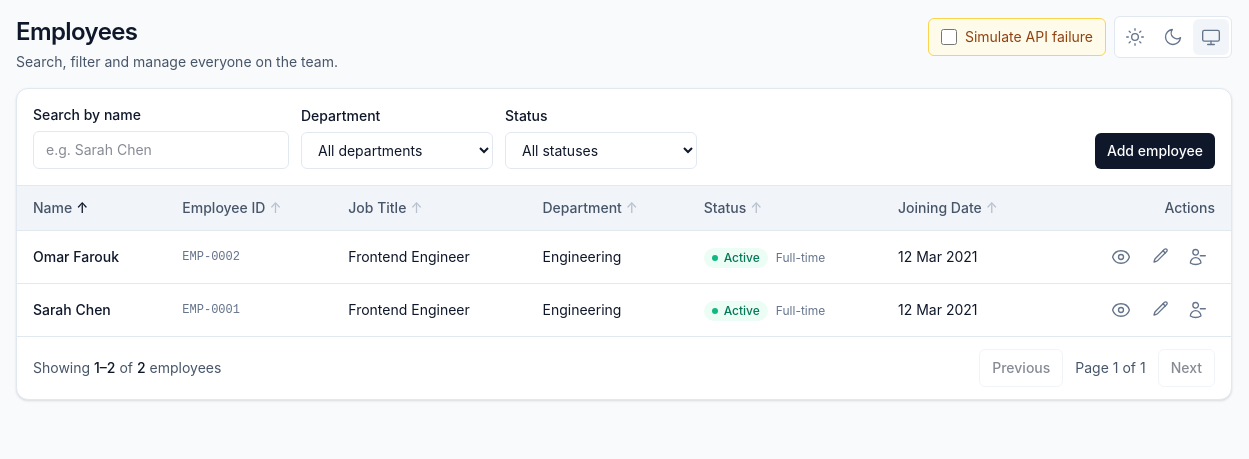
employee list › filters by name and falls back to an empty state with no matches
Expected: the table is shown, [17,186,1231,336]
Type "omar" into the search field labelled "Search by name". click: (161, 150)
box: [33,131,289,169]
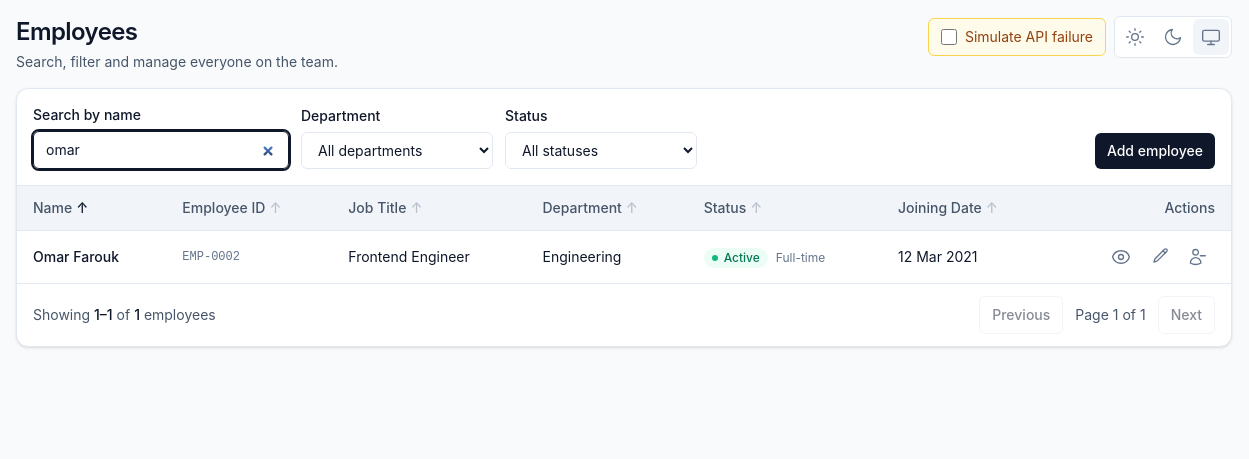
Expected: the column heading "Omar Farouk" is shown, [17,231,166,283]
Expected: the column heading "Sarah Chen" is gone
Replace the text in the search field labelled "Search by name" with "nobody". click: (161, 150)
box: [33,131,289,169]
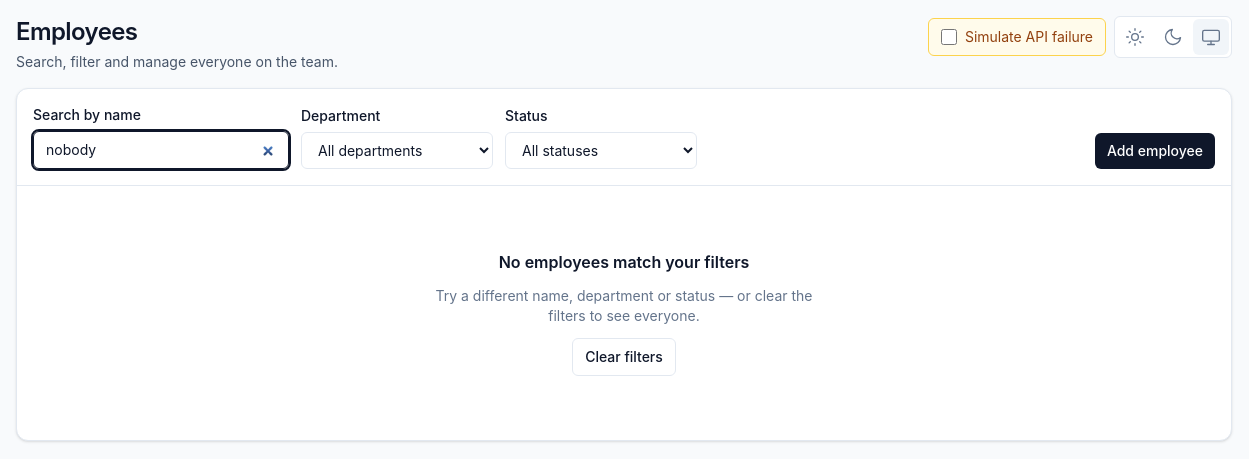
Expected: the heading "No employees match your filters" is shown, [499,250,749,274]
Note: The empty state has to offer a way back out of the filters.
Click the button "Clear filters". click: (624, 357)
box: [572,338,676,376]
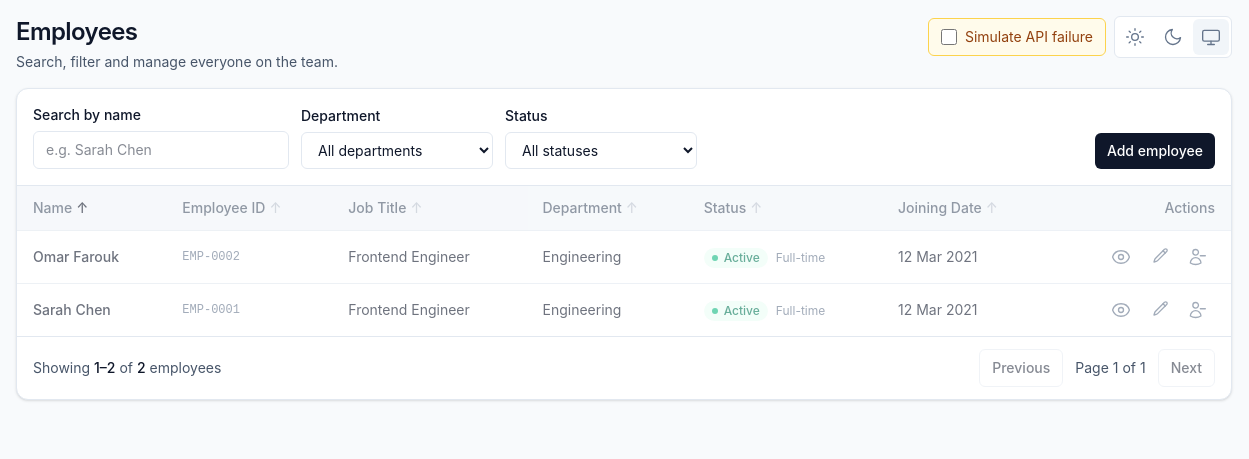
Expected: the table is shown, [17,186,1231,336]
Expected: the column heading "Sarah Chen" is shown, [17,284,166,336]
